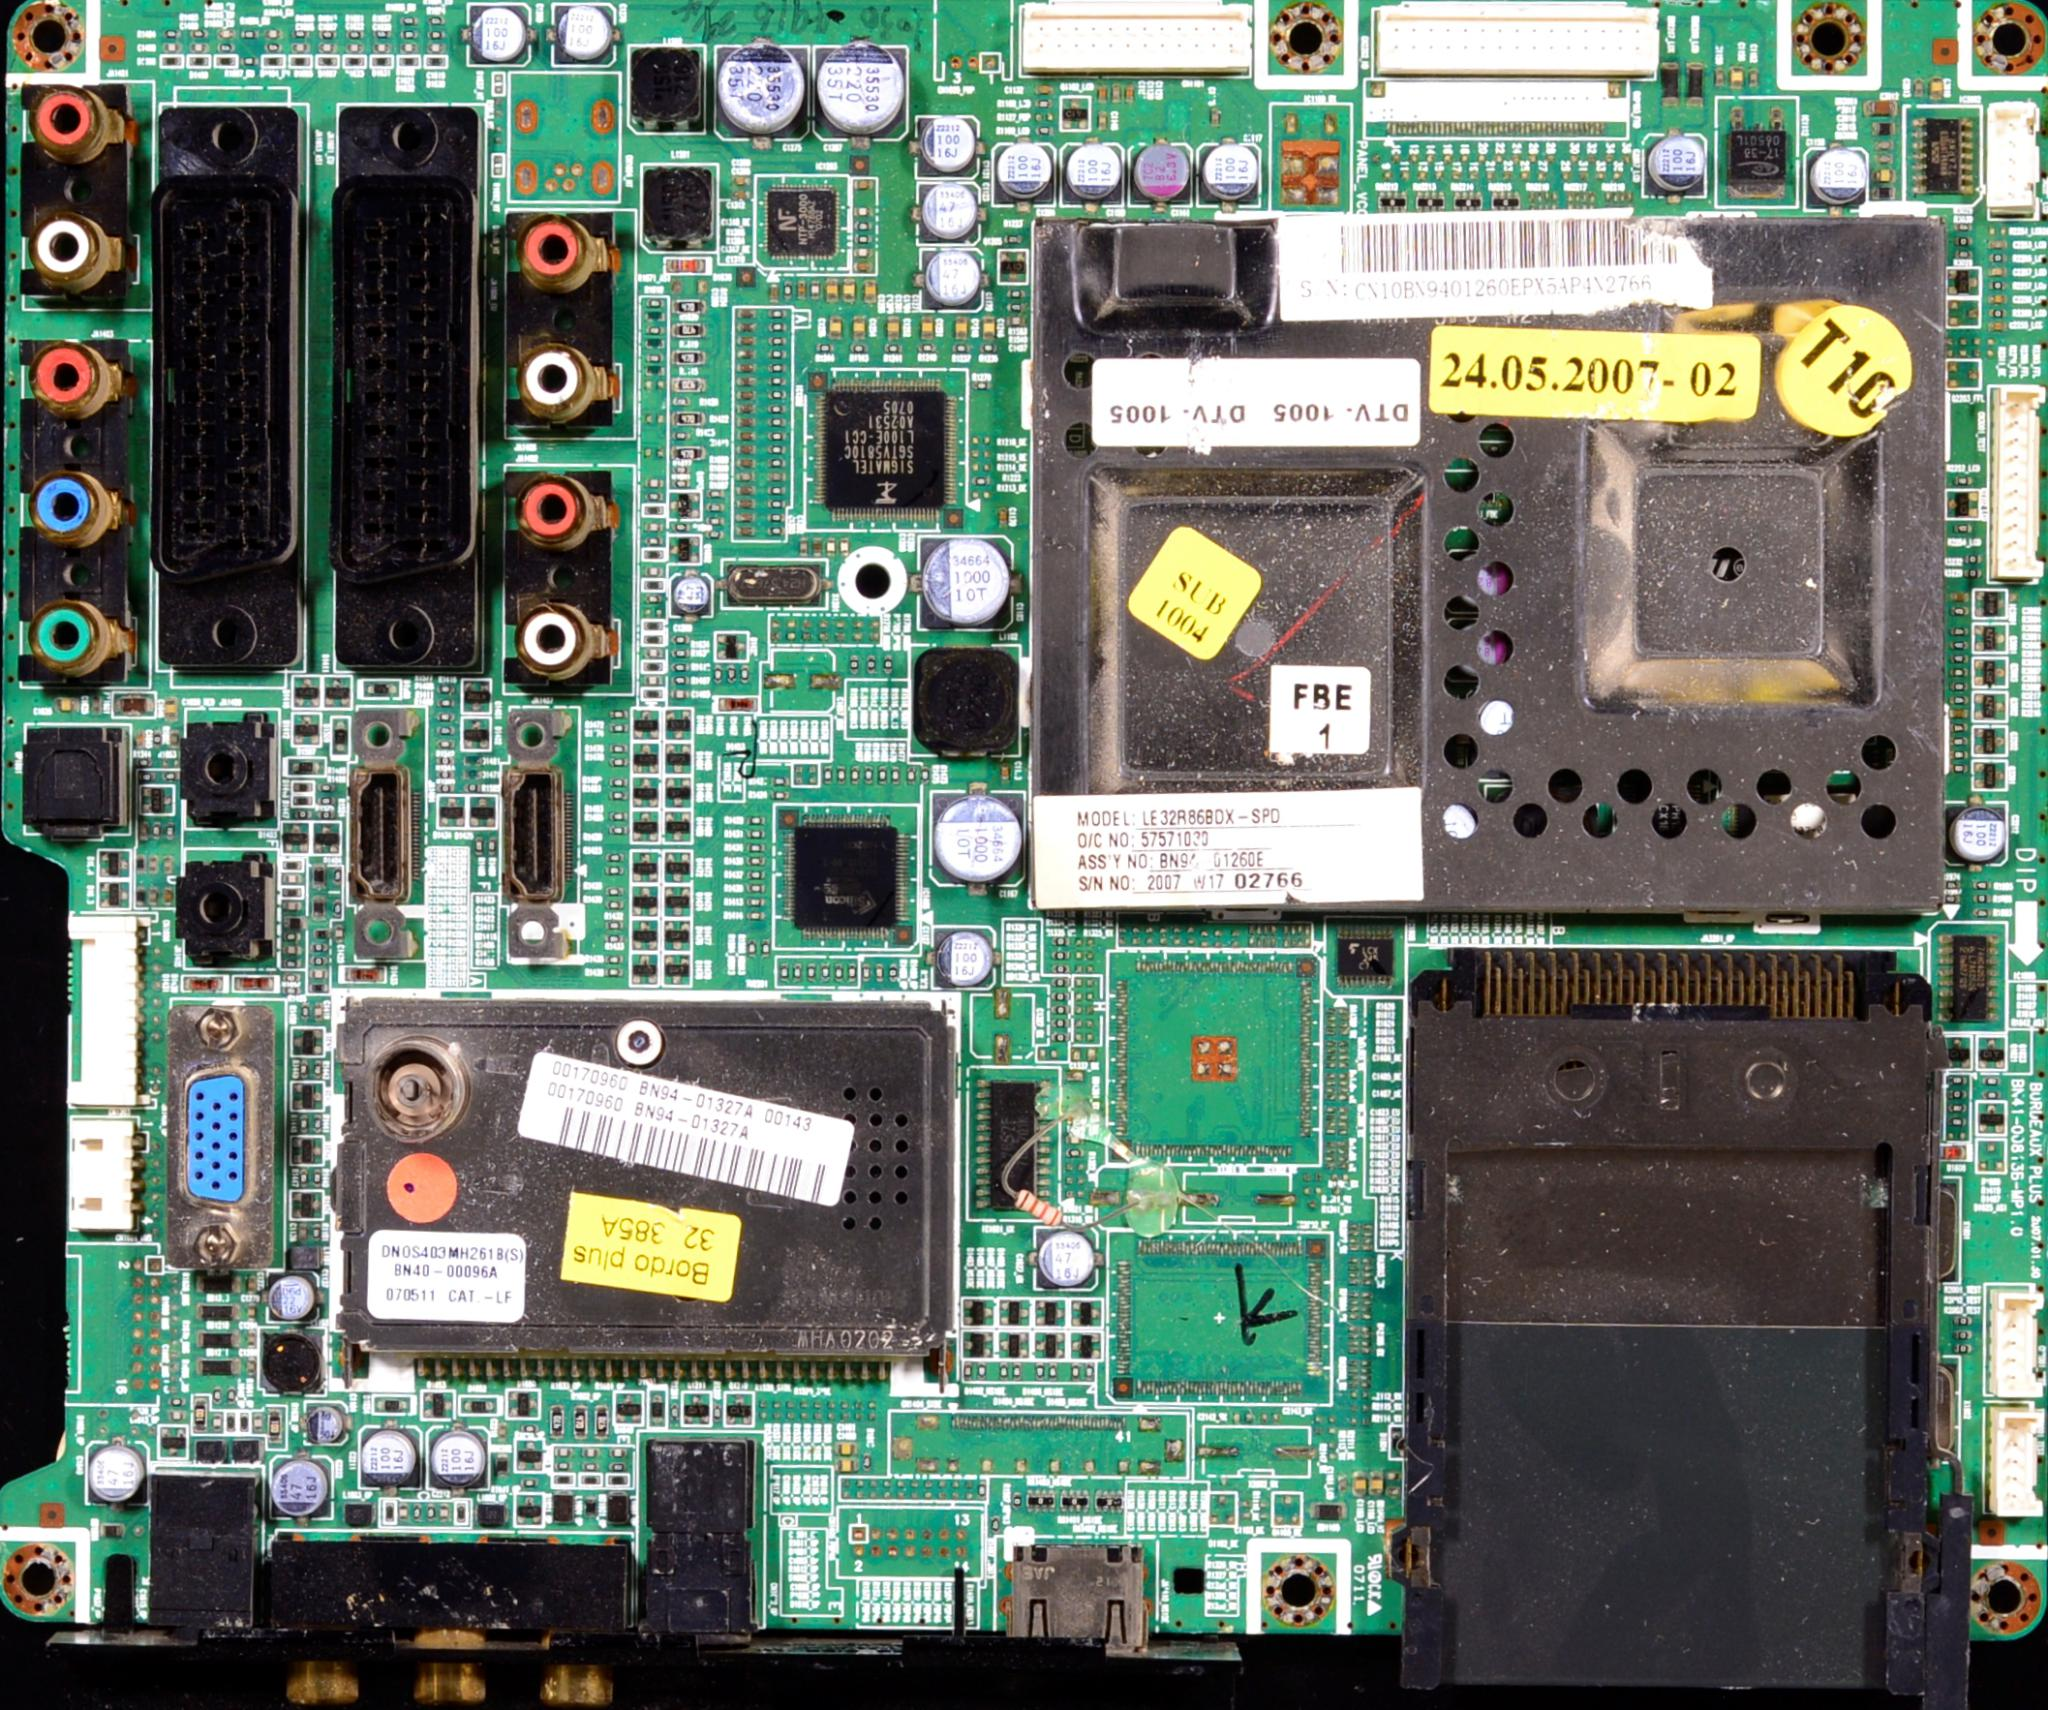Capacitor Jumper: (1060, 138, 1126, 202), (915, 114, 983, 177), (919, 250, 988, 306), (1135, 140, 1194, 204), (1203, 140, 1260, 204), (915, 185, 981, 240), (993, 148, 1051, 199), (915, 315, 939, 344), (1863, 99, 1895, 116), (825, 313, 844, 342), (992, 762, 1015, 784), (862, 276, 878, 310), (980, 313, 998, 340), (1369, 1467, 1385, 1499), (840, 274, 856, 306), (1351, 1470, 1368, 1499), (49, 696, 78, 713), (883, 316, 903, 340), (825, 276, 840, 306), (953, 313, 970, 340), (638, 672, 670, 686), (833, 1438, 859, 1455), (850, 315, 868, 340), (1094, 80, 1111, 105), (997, 504, 1012, 531), (641, 516, 665, 533), (725, 175, 754, 189), (850, 175, 874, 191), (784, 616, 799, 640), (764, 282, 781, 303), (815, 614, 828, 640), (245, 1300, 260, 1322), (1873, 151, 1897, 165), (832, 616, 845, 640), (163, 696, 177, 720), (1931, 77, 1944, 100), (833, 1460, 859, 1472), (243, 1353, 257, 1375), (735, 374, 759, 386), (733, 499, 757, 510), (733, 459, 760, 470), (850, 206, 873, 218), (1985, 293, 2007, 305), (735, 415, 757, 427), (733, 429, 755, 441), (371, 41, 393, 53), (735, 526, 757, 538), (1749, 65, 1761, 87), (160, 885, 172, 907), (849, 260, 878, 269), (296, 1223, 308, 1244), (726, 191, 750, 201), (1983, 320, 2007, 330), (735, 322, 755, 333), (731, 485, 755, 495), (1948, 592, 1968, 604), (801, 616, 811, 640), (854, 616, 864, 640), (772, 618, 782, 641), (134, 725, 145, 749), (1949, 476, 1977, 485), (497, 1419, 507, 1441), (735, 310, 757, 320), (737, 349, 759, 359), (735, 403, 757, 413), (289, 41, 311, 51), (424, 43, 446, 53), (869, 619, 879, 641), (1873, 140, 1892, 151), (318, 41, 337, 53), (1987, 240, 2012, 248), (1124, 82, 1133, 107), (243, 1273, 253, 1293), (245, 1325, 255, 1346), (345, 43, 366, 53), (733, 514, 757, 522), (1029, 87, 1053, 95), (730, 364, 759, 371), (735, 473, 754, 483), (1004, 315, 1026, 323), (735, 391, 757, 400), (735, 337, 755, 345), (737, 444, 754, 454), (1949, 708, 1966, 718), (849, 248, 873, 255), (192, 39, 206, 51), (162, 43, 180, 51), (92, 694, 100, 713), (401, 43, 417, 53), (670, 689, 686, 699), (799, 279, 806, 301), (1987, 269, 2004, 277)
Connector: (150, 114, 316, 684), (7, 90, 163, 687), (364, 129, 488, 653), (498, 216, 633, 679), (282, 1542, 623, 1707), (1364, 5, 1669, 77), (998, 1535, 1162, 1666), (1012, 0, 1254, 78), (58, 902, 134, 1099), (68, 1118, 146, 1240), (1990, 1399, 2048, 1516), (1987, 95, 2043, 216), (1985, 1280, 2041, 1395)
IC: (776, 803, 915, 948), (971, 1067, 1056, 1218), (1907, 107, 1978, 201), (1330, 919, 1402, 989)
Resistor Jumper: (958, 1356, 973, 1385), (390, 12, 418, 27), (738, 907, 767, 922), (429, 767, 461, 781), (335, 720, 347, 755), (429, 708, 458, 721), (599, 849, 628, 863), (845, 650, 861, 675), (1065, 1363, 1082, 1385), (993, 1359, 1009, 1383), (1944, 664, 1968, 679), (429, 740, 463, 750), (432, 752, 458, 766), (876, 762, 890, 788), (600, 881, 626, 895), (913, 345, 942, 357), (607, 704, 629, 720), (607, 772, 629, 788), (947, 344, 971, 357), (764, 483, 791, 495), (604, 788, 628, 801), (1048, 934, 1072, 948), (602, 948, 626, 961), (429, 725, 459, 735), (769, 786, 789, 801), (211, 1380, 223, 1405), (764, 374, 789, 386), (764, 471, 789, 483), (862, 762, 874, 788), (1951, 218, 1973, 231), (641, 590, 663, 604), (725, 662, 738, 684), (434, 694, 456, 708), (604, 740, 626, 754), (903, 762, 917, 784), (745, 892, 767, 905), (844, 344, 873, 354), (883, 652, 893, 681), (973, 379, 992, 395), (607, 720, 623, 738), (1031, 1358, 1043, 1382), (578, 1460, 602, 1472), (976, 1475, 988, 1499), (160, 27, 184, 39), (813, 344, 837, 356), (743, 881, 767, 893), (602, 917, 626, 929), (1943, 1075, 1970, 1086), (1000, 289, 1027, 299), (765, 306, 786, 320), (764, 430, 791, 441), (704, 485, 725, 499), (602, 929, 623, 943), (1050, 990, 1072, 1002), (1048, 1031, 1070, 1043), (1063, 1145, 1085, 1157), (1000, 301, 1022, 313), (765, 335, 788, 347), (434, 682, 456, 694), (606, 755, 628, 767), (602, 808, 624, 820), (747, 839, 769, 851), (745, 868, 767, 880), (764, 444, 789, 454), (769, 522, 786, 538), (602, 900, 628, 910), (818, 961, 832, 980), (1946, 1099, 1965, 1113), (1963, 551, 1982, 565), (868, 648, 876, 677), (779, 958, 789, 982), (425, 1502, 437, 1523), (216, 41, 240, 51), (672, 521, 692, 533), (1948, 693, 1968, 704), (315, 793, 335, 805), (602, 864, 623, 876), (1970, 878, 1990, 890), (1050, 948, 1070, 960), (228, 1380, 236, 1407), (242, 27, 259, 41), (242, 54, 259, 68), (670, 633, 687, 647), (747, 810, 764, 824), (874, 960, 885, 982), (1084, 1359, 1094, 1382), (988, 1511, 998, 1533), (765, 499, 788, 509), (837, 762, 847, 784), (1970, 907, 1992, 917), (762, 934, 772, 956), (308, 955, 330, 965), (163, 820, 175, 839), (750, 852, 769, 864), (1014, 1359, 1022, 1385), (1051, 961, 1072, 972), (793, 960, 803, 980), (308, 982, 328, 992), (281, 983, 301, 994), (310, 1220, 320, 1240), (850, 221, 871, 231), (852, 235, 873, 245), (427, 29, 447, 39), (767, 349, 788, 359), (765, 403, 786, 413), (767, 417, 788, 427), (704, 527, 725, 538), (713, 662, 723, 682), (430, 779, 451, 789), (463, 779, 483, 789), (609, 824, 624, 837), (1970, 893, 1990, 903), (806, 958, 815, 982), (604, 965, 621, 977), (311, 1060, 323, 1077), (978, 1356, 987, 1380), (1048, 1358, 1056, 1382), (769, 458, 786, 470), (968, 478, 992, 487), (703, 516, 726, 524), (674, 648, 691, 660), (920, 762, 929, 786), (852, 762, 861, 786), (891, 762, 900, 786), (282, 931, 299, 943), (833, 961, 844, 980), (1946, 1116, 1965, 1126), (298, 1167, 308, 1186), (881, 344, 900, 354), (1949, 720, 1968, 730), (1949, 737, 1968, 747), (1943, 878, 1961, 888), (282, 955, 301, 965), (784, 277, 793, 299), (187, 29, 209, 37), (342, 31, 364, 39), (488, 835, 497, 858), (1941, 893, 1963, 902), (748, 938, 757, 960), (1051, 1004, 1068, 1014), (609, 1458, 626, 1468), (429, 17, 446, 27), (371, 27, 388, 37), (767, 364, 788, 373), (767, 390, 788, 398), (704, 504, 725, 512), (1949, 624, 1966, 635), (668, 660, 686, 670), (738, 662, 747, 682), (1949, 681, 1966, 691), (769, 774, 786, 784), (294, 779, 311, 789), (318, 781, 335, 791), (291, 795, 311, 803), (475, 835, 483, 856), (282, 900, 303, 909), (136, 755, 150, 767), (862, 963, 871, 982), (281, 972, 299, 980), (553, 1462, 572, 1470), (412, 1499, 420, 1518), (398, 31, 417, 39), (293, 808, 311, 817), (151, 820, 160, 839), (298, 1114, 308, 1130), (311, 1169, 321, 1184), (165, 1397, 187, 1404), (765, 514, 788, 521), (1983, 1077, 2000, 1086), (313, 1114, 321, 1131), (864, 1450, 873, 1467), (645, 492, 662, 500), (1965, 570, 1982, 579), (1948, 607, 1965, 616), (1949, 641, 1966, 650), (645, 648, 662, 657), (1949, 750, 1966, 759), (311, 943, 328, 951), (1051, 1019, 1072, 1026), (976, 344, 997, 351), (643, 538, 663, 544), (1051, 977, 1067, 985), (674, 674, 689, 682), (849, 963, 856, 982), (299, 1058, 306, 1077), (1982, 1089, 2000, 1096), (1953, 250, 1971, 257), (291, 31, 310, 37), (1946, 655, 1965, 662), (825, 766, 832, 784), (747, 829, 765, 835), (282, 875, 301, 881), (1951, 764, 1965, 772), (646, 570, 665, 575), (320, 31, 333, 37), (767, 325, 784, 330)
Transistor: (1939, 927, 2007, 1023), (1966, 585, 2007, 619), (158, 1422, 191, 1460), (1968, 687, 2005, 720), (682, 1388, 713, 1428), (723, 1390, 757, 1424), (461, 716, 493, 752), (1060, 94, 1090, 131), (1970, 757, 2007, 788), (1973, 621, 2007, 653), (514, 1491, 544, 1526), (1944, 488, 1980, 519), (94, 851, 131, 880), (611, 1390, 643, 1422), (1033, 1297, 1067, 1327), (631, 706, 662, 740), (1970, 657, 2005, 686), (628, 953, 658, 985), (514, 1436, 544, 1468), (631, 742, 662, 774), (1941, 1033, 1970, 1067), (665, 706, 694, 740), (1971, 725, 2005, 754), (461, 679, 488, 715), (961, 1297, 998, 1322), (660, 888, 691, 919), (1977, 1035, 2005, 1067), (1070, 1297, 1102, 1325), (628, 812, 660, 841), (663, 851, 692, 883), (1977, 1101, 2004, 1135), (287, 1189, 321, 1217), (1072, 1331, 1102, 1359), (422, 1387, 451, 1417), (510, 1387, 539, 1417), (293, 675, 321, 706), (662, 917, 691, 948), (323, 675, 350, 708), (663, 778, 691, 810), (291, 1029, 325, 1055), (289, 1084, 323, 1109), (997, 252, 1026, 281), (663, 744, 692, 772), (631, 779, 660, 808), (633, 851, 660, 881), (629, 919, 657, 949), (293, 1135, 321, 1162), (1000, 1298, 1029, 1325), (998, 1329, 1027, 1356), (439, 796, 466, 825), (1034, 1332, 1065, 1358), (1948, 269, 1978, 294), (963, 1331, 995, 1354), (294, 711, 318, 744), (663, 813, 691, 841), (311, 824, 338, 851), (469, 796, 495, 825), (633, 885, 658, 914), (97, 885, 133, 905), (663, 955, 687, 983), (284, 824, 306, 852)
